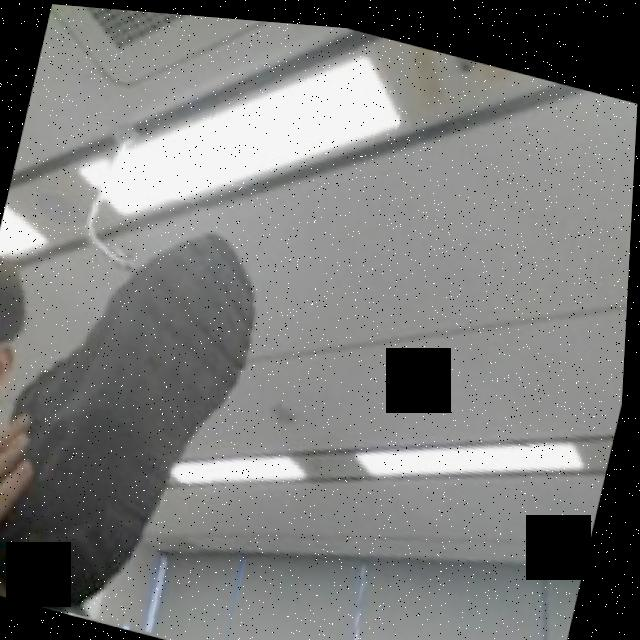shoe: (0, 158, 325, 640)
